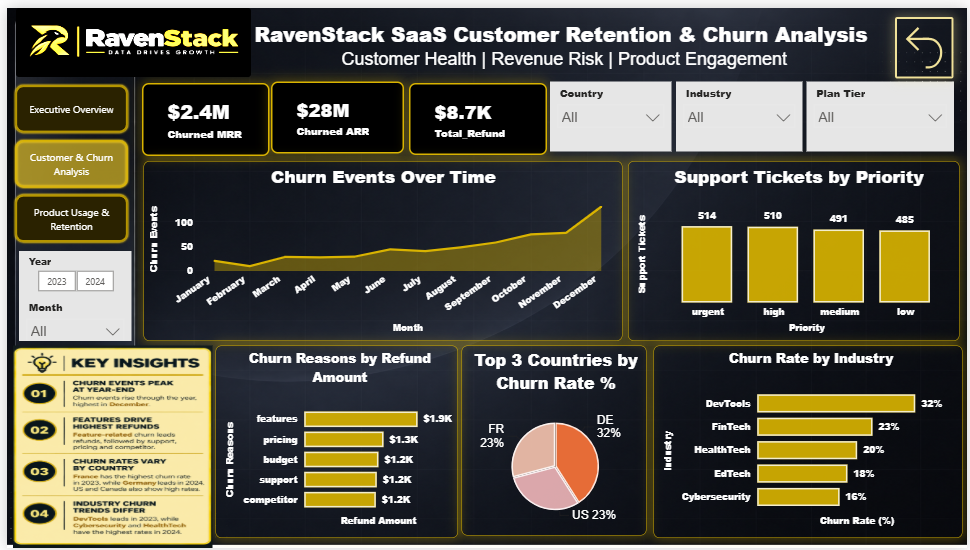

This screenshot's page, from the dashboard's own definition file:
{"tool":"powerbi","page":{"name":"Customer & Churn Analysis","canvas":[1280,720],"ordinal":1},"visuals":[{"type":"textbox","box":[310,12,864,80],"z":0},{"type":"cardVisual","fields":{"Data":["ravenstack_accounts.Churned_MRR"]},"box":[179,99,170,97],"z":1000},{"type":"cardVisual","fields":{"Data":["ravenstack_accounts.Churned_ARR"]},"box":[352.5,98.8,177.5,96.2],"z":2000},{"type":"cardVisual","fields":{"Data":["ravenstack_churn_events.Total_Refund"]},"box":[535,99,184,96],"z":3000},{"type":"lineChart","title":"Churn Events Over Time","fields":{"Category":["ravenstack_churn_events.Churn Date.Variation.Date Hierarchy.Month"],"Y":["CountNonNull(ravenstack_churn_events.Churn Event ID)"]},"box":[181.7,203.3,638.3,240],"z":4000},{"type":"columnChart","title":"Support Tickets by Priority","fields":{"Y":["CountNonNull(ravenstack_support_tickets.Ticket ID)"],"Category":["ravenstack_support_tickets.Priority"]},"box":[827,203.3,441.7,240],"z":5000},{"type":"pieChart","title":"Top 3 Countries by Churn Rate %","fields":{"Category":["ravenstack_accounts.Country"],"Y":["ravenstack_accounts.Churn Rate %"]},"box":[606.7,450,246.7,253.3],"z":6000},{"type":"barChart","title":"Churn Rate by Industry","fields":{"Y":["ravenstack_accounts.Churn Rate %"],"Category":["ravenstack_accounts.Industry"]},"box":[861,450,411.7,256.7],"z":7000},{"type":"slicer","fields":{"Values":["Date_Table.Month"]},"box":[16,384,150,60],"z":8000},{"type":"slicer","fields":{"Values":["Date_Table.Year"]},"box":[16,324,150,60],"z":9000},{"type":"barChart","title":"Churn Reasons by Refund Amount","fields":{"Y":["ravenstack_churn_events.Total_Refund"],"Category":["ravenstack_churn_events.Reason Code"]},"box":[278.3,450,323.3,256.7],"z":10000},{"type":"slicer","fields":{"Values":["ravenstack_accounts.Plan Tier"]},"box":[1065,98.3,196.7,93.3],"z":11000},{"type":"slicer","fields":{"Values":["ravenstack_accounts.Industry"]},"box":[891.7,98.3,168.3,93.3],"z":12000},{"type":"slicer","fields":{"Values":["ravenstack_accounts.Country"]},"box":[723,98.6,162,93],"z":13000},{"type":"actionButton","box":[1184,12,78,82],"z":14000},{"type":"image","box":[8.3,450,266,270],"z":15000},{"type":"image","box":[11.7,0,313.3,91.7],"z":16000},{"type":"pageNavigator","box":[8.3,100,156.7,215],"z":17000}]}

Visuals, with their boxes in screenshot pixels (x1, y1, x2, y2), scaled from the page's 1280x720 canvas onto the 970x550 screenshot:
textbox: {"left": 235, "top": 9, "right": 890, "bottom": 70}
cardVisual - ravenstack_accounts.Churned_MRR: {"left": 136, "top": 76, "right": 264, "bottom": 150}
cardVisual - ravenstack_accounts.Churned_ARR: {"left": 267, "top": 75, "right": 402, "bottom": 149}
cardVisual - ravenstack_churn_events.Total_Refund: {"left": 405, "top": 76, "right": 545, "bottom": 149}
"Churn Events Over Time" lineChart: {"left": 138, "top": 155, "right": 621, "bottom": 339}
"Support Tickets by Priority" columnChart: {"left": 627, "top": 155, "right": 961, "bottom": 339}
"Top 3 Countries by Churn Rate %" pieChart: {"left": 460, "top": 344, "right": 647, "bottom": 537}
"Churn Rate by Industry" barChart: {"left": 652, "top": 344, "right": 964, "bottom": 540}
slicer - Date_Table.Month: {"left": 12, "top": 293, "right": 126, "bottom": 339}
slicer - Date_Table.Year: {"left": 12, "top": 247, "right": 126, "bottom": 293}
"Churn Reasons by Refund Amount" barChart: {"left": 211, "top": 344, "right": 456, "bottom": 540}
slicer - ravenstack_accounts.Plan Tier: {"left": 807, "top": 75, "right": 956, "bottom": 146}
slicer - ravenstack_accounts.Industry: {"left": 676, "top": 75, "right": 803, "bottom": 146}
slicer - ravenstack_accounts.Country: {"left": 548, "top": 75, "right": 671, "bottom": 146}
actionButton: {"left": 897, "top": 9, "right": 956, "bottom": 72}
image: {"left": 6, "top": 344, "right": 208, "bottom": 549}
image: {"left": 9, "top": 0, "right": 246, "bottom": 70}
pageNavigator: {"left": 6, "top": 76, "right": 125, "bottom": 241}
